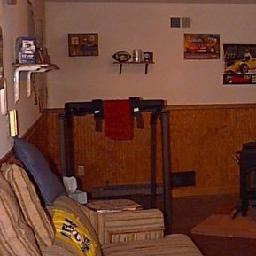Otro Obstaculo: (64, 102, 175, 205)
